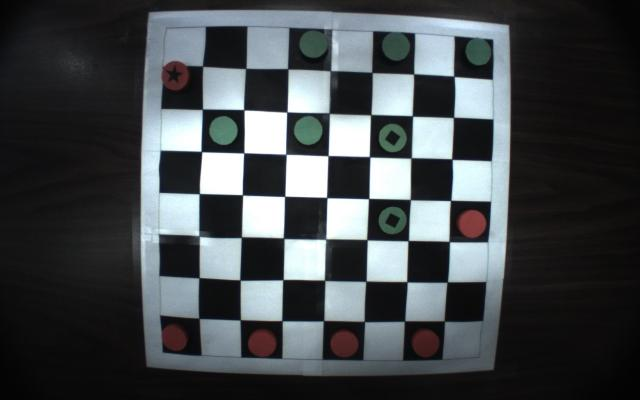G: (376, 204, 409, 238), (377, 120, 409, 154)
R: (158, 57, 193, 93)
g: (380, 29, 414, 64), (462, 36, 497, 68), (208, 112, 240, 146), (296, 28, 331, 59), (293, 114, 324, 147)
r: (324, 326, 362, 360), (246, 327, 280, 361), (408, 326, 442, 360), (456, 206, 488, 240), (160, 322, 191, 352)
